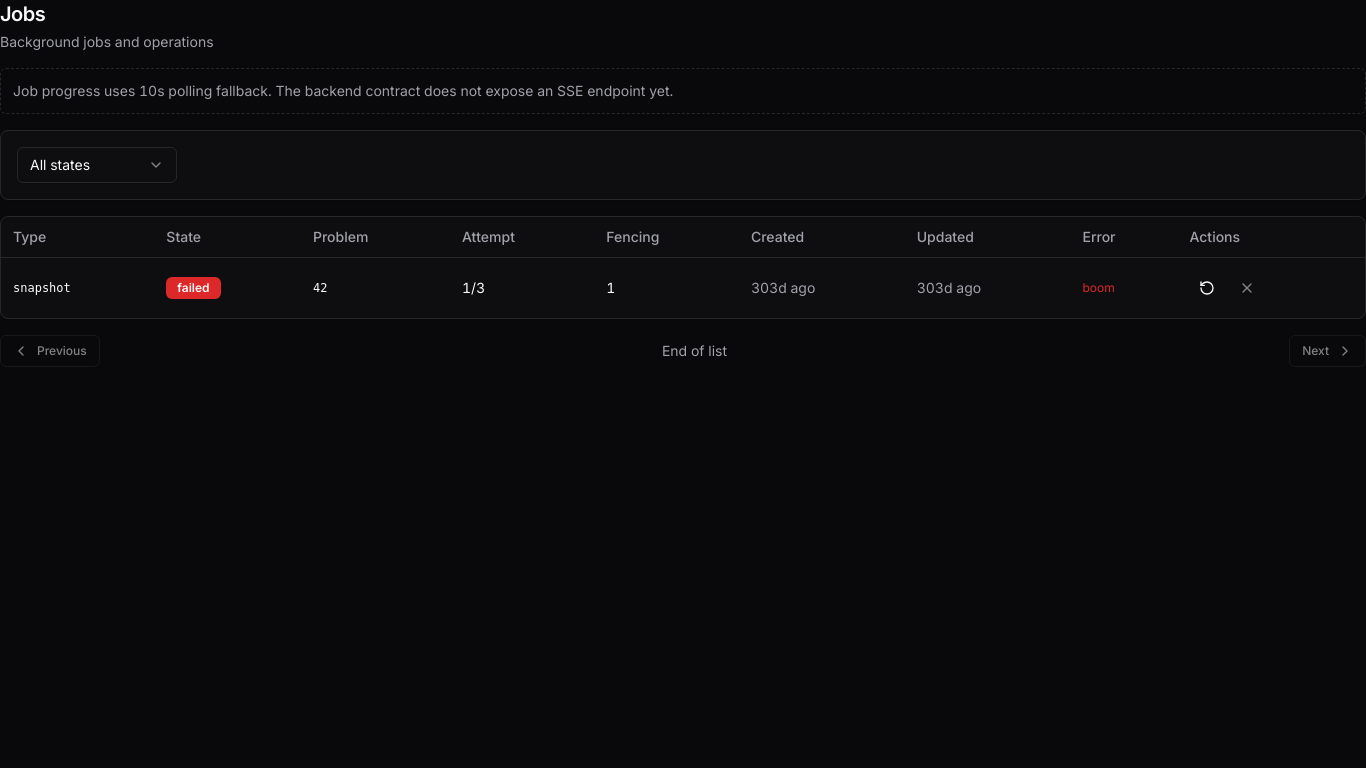
Test: dashboard page semantics › confirms retry job actions before mutation
Click the button named "retry job" at x=1208, y=288, box left=1190, top=270, right=1226, bottom=306
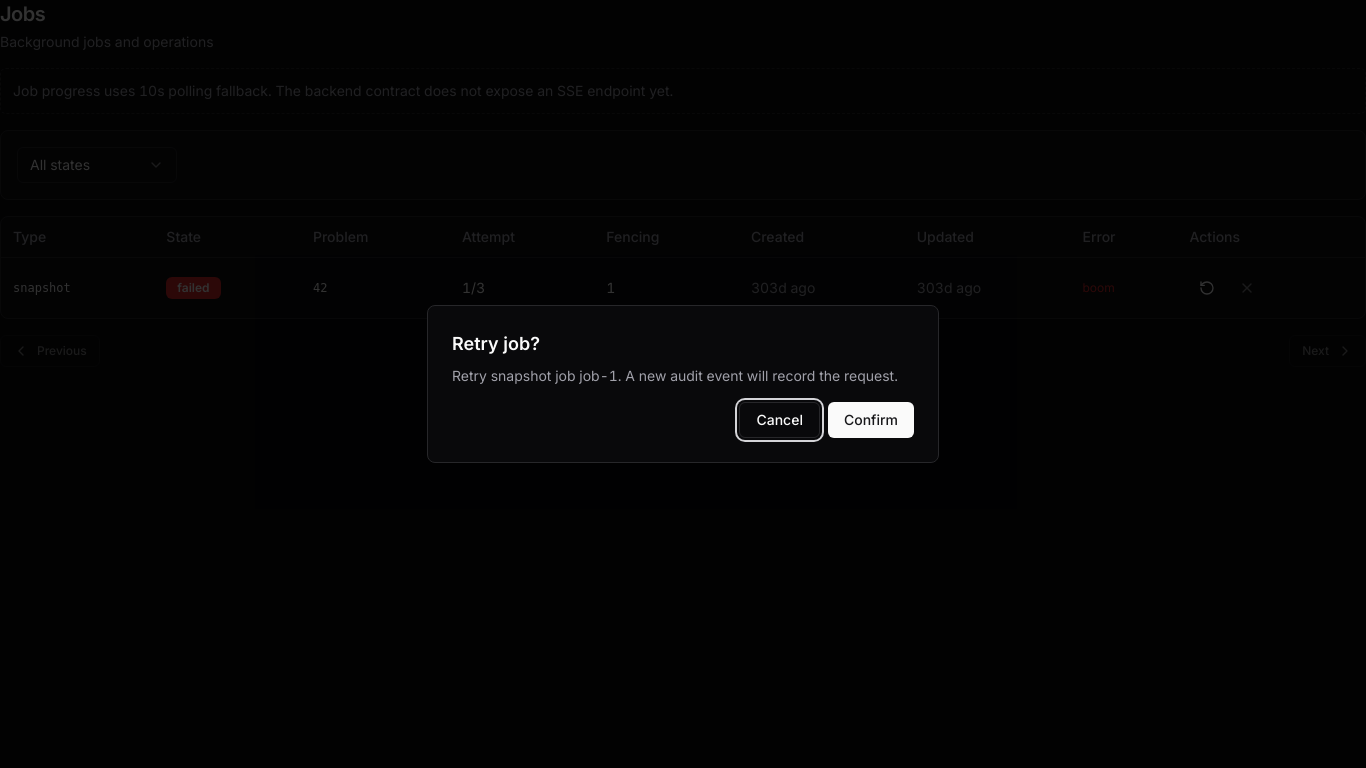
Check: the dialog is shown, box left=427, top=305, right=939, bottom=463
Check: the text "Retry snapshot job job-1" is shown, box left=452, top=367, right=898, bottom=384
